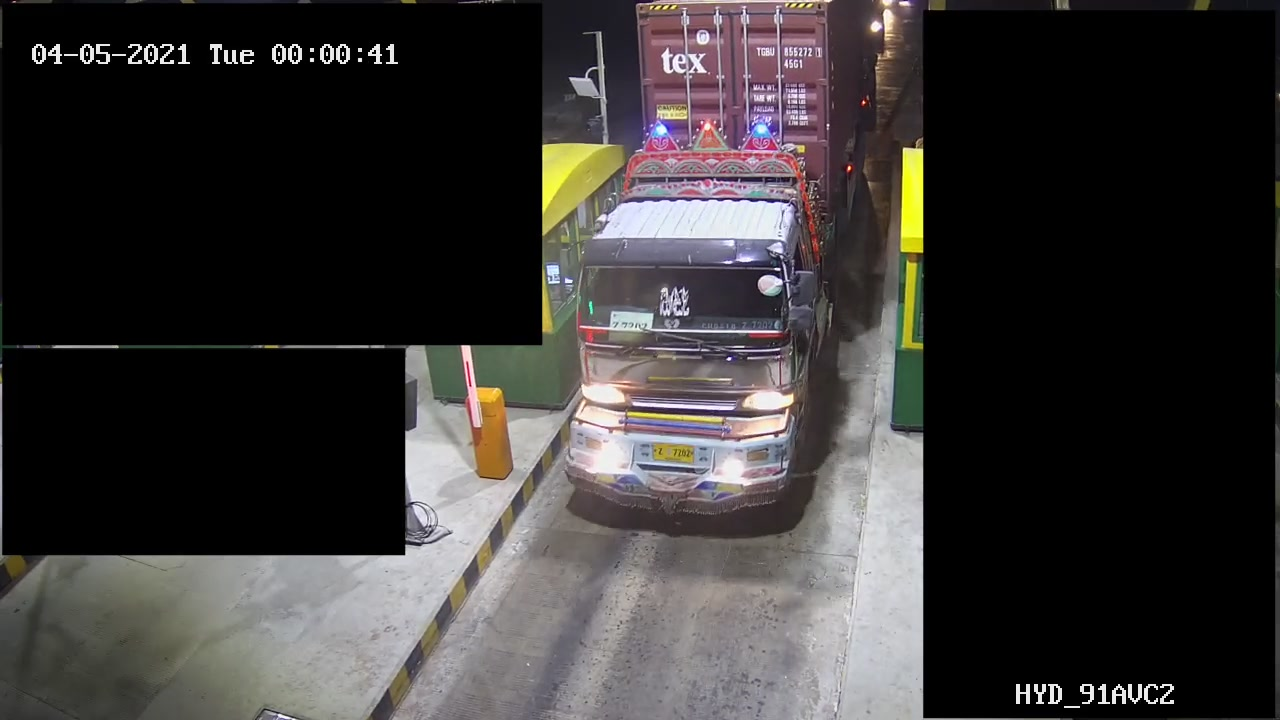F6: (561, 1, 873, 545)
